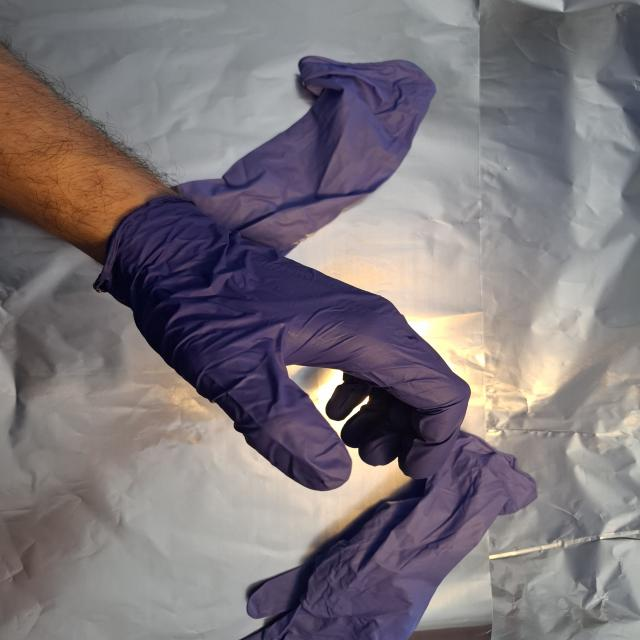glove_on: (90, 192, 473, 493)
